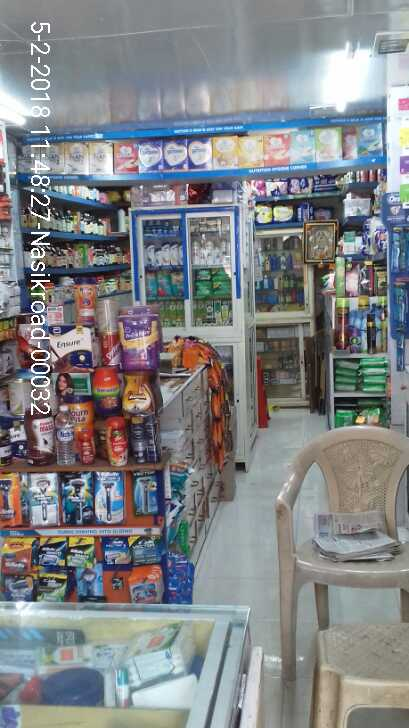oralcare: (383, 192, 407, 374)
vicks: (140, 216, 185, 236)
